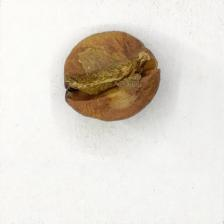NG: (71, 37, 148, 104)
